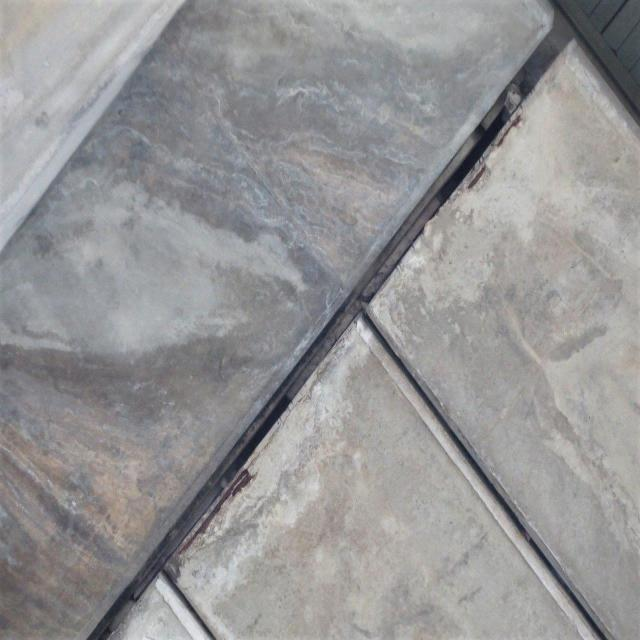Rebar: (160, 465, 258, 582), (461, 114, 524, 194)
